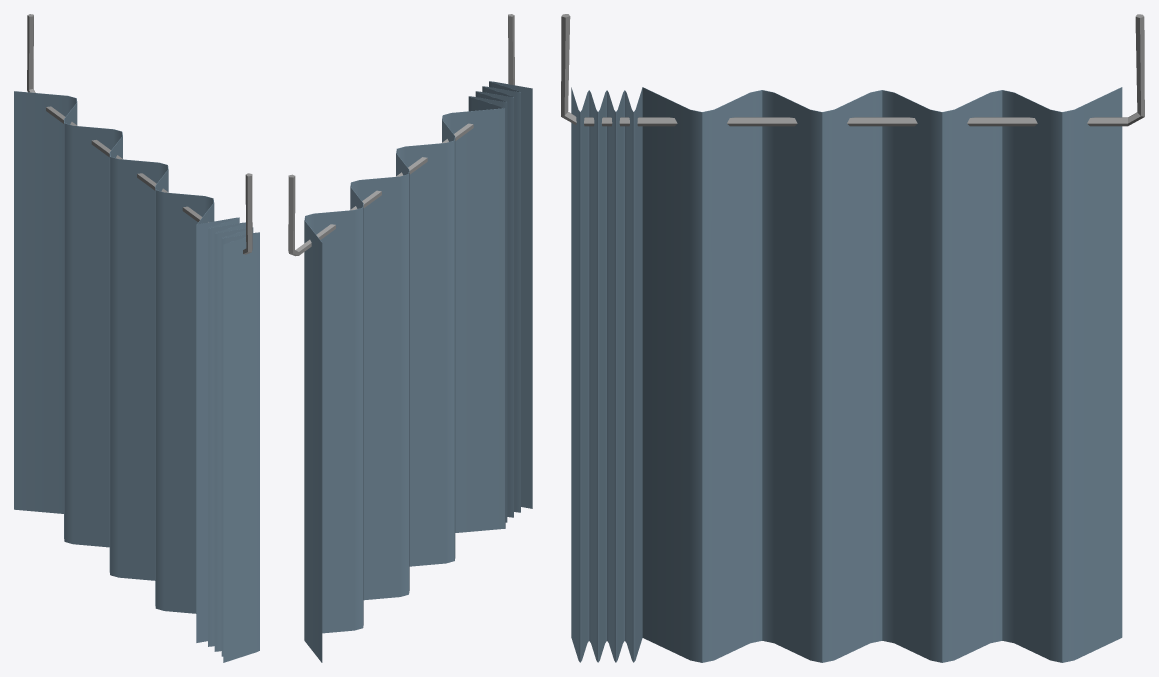
The model's file is Curtains.fbx.
3 views of the same model, side by side, from view 1: azimuth 30°, elevation 25°; view 2: azimuth 150°, elevation 25°; view 3: azimuth 270°, elevation 25° (orthographic). The views are drawn at different scales.
Parts seen in each view (by area): view 1: S_Curtains; view 2: S_Curtains; view 3: S_Curtains.
Part boxes in pixels (x1,y1,x2,y2): S_Curtains: (14,14,259,662); S_Curtains: (288,14,532,662); S_Curtains: (561,14,1144,662).
Size of the model in its own units: 27.38 by 317 by 264.
